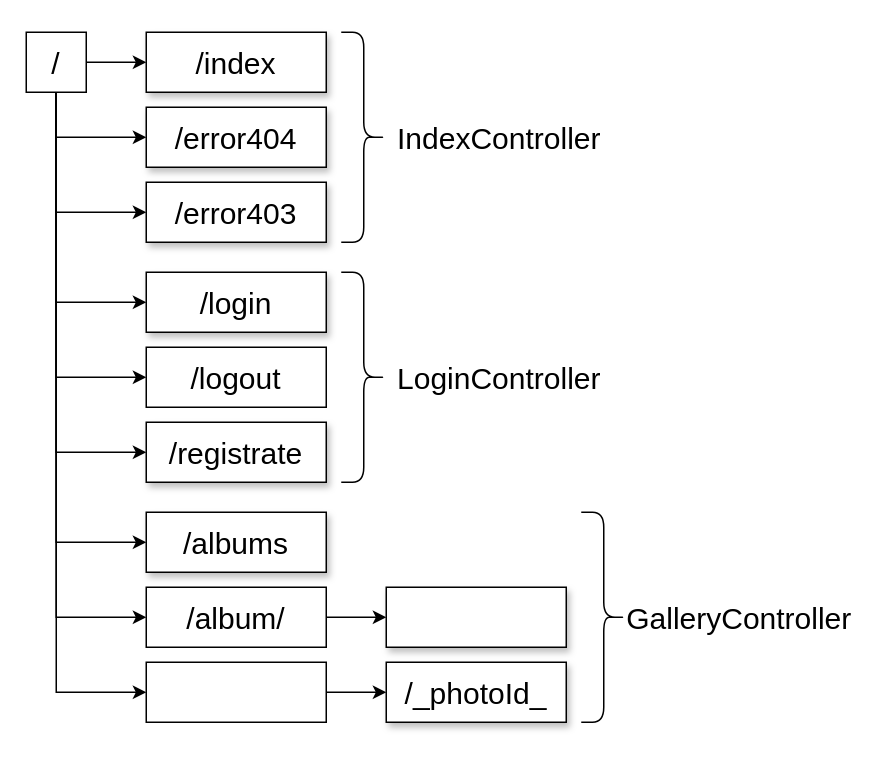
Image size: 893x759. Some labels were removed from this diagram. Each missing label, with the centre of its shape:
/_albumId_: pixel 477 619
/photo/: pixel 235 691
